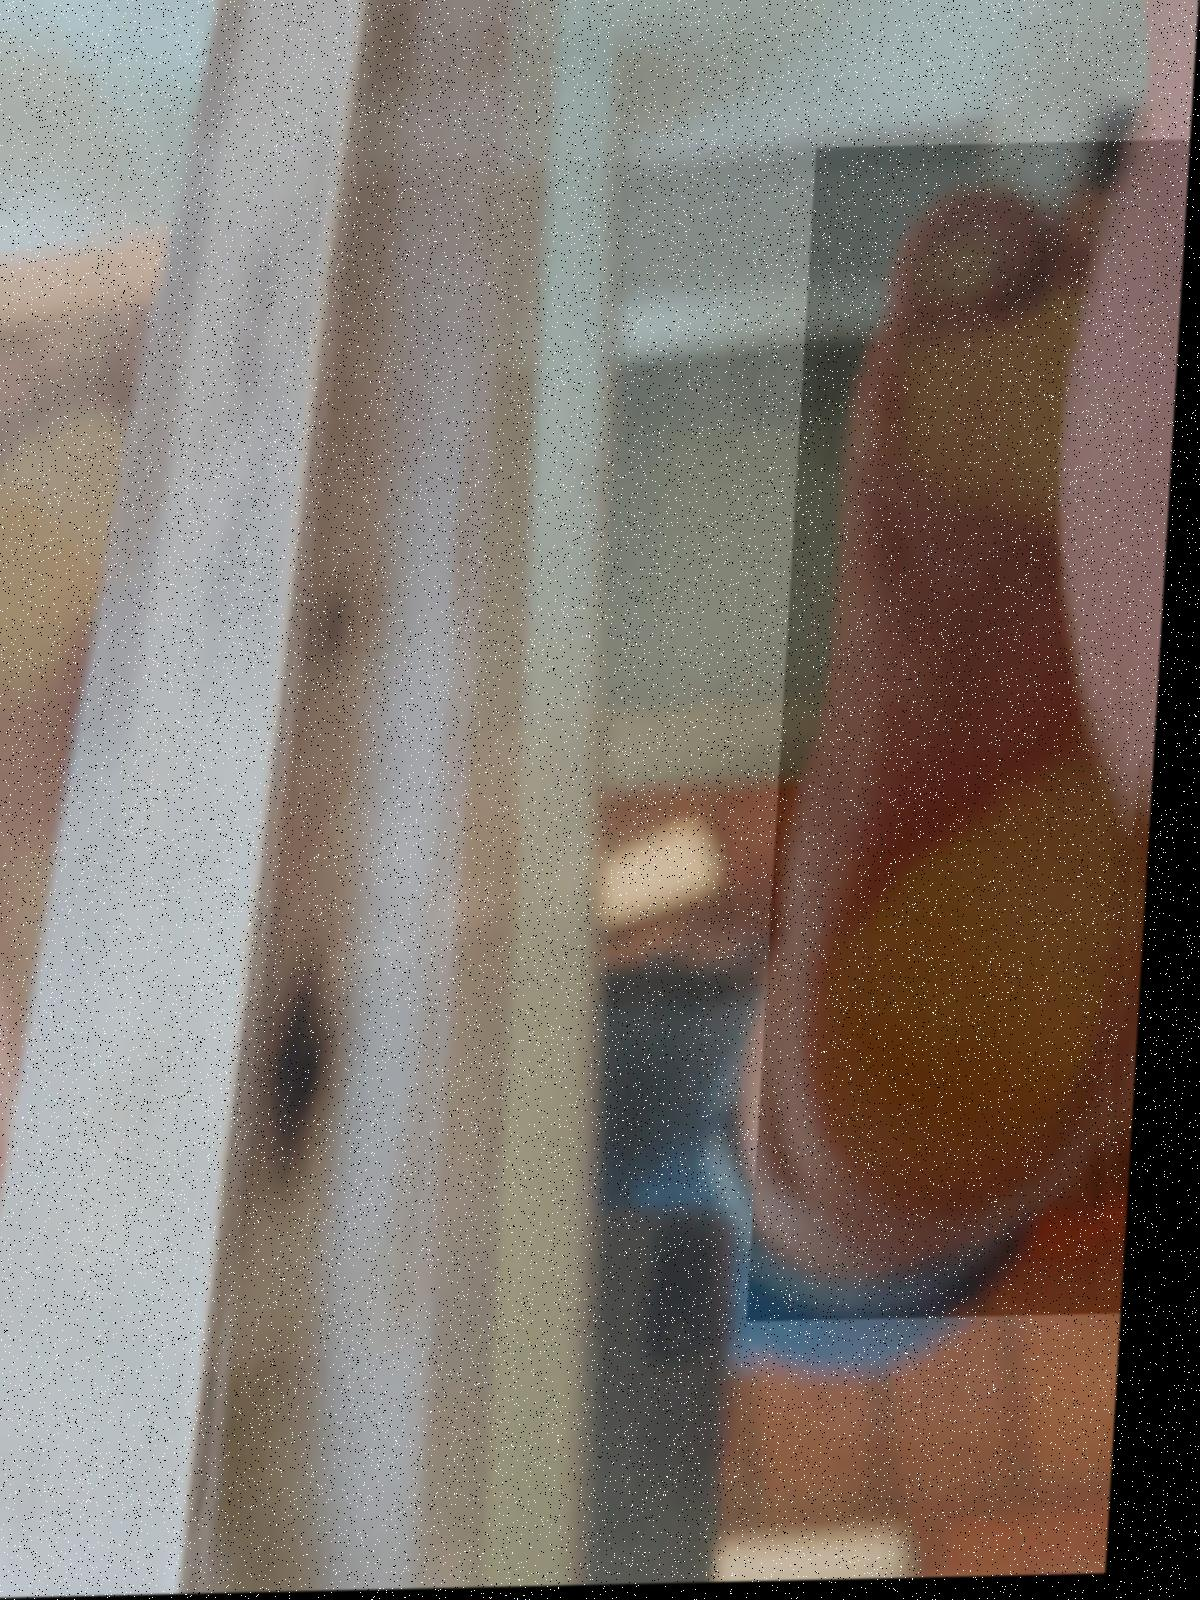Present: (764, 145, 1192, 1325)
